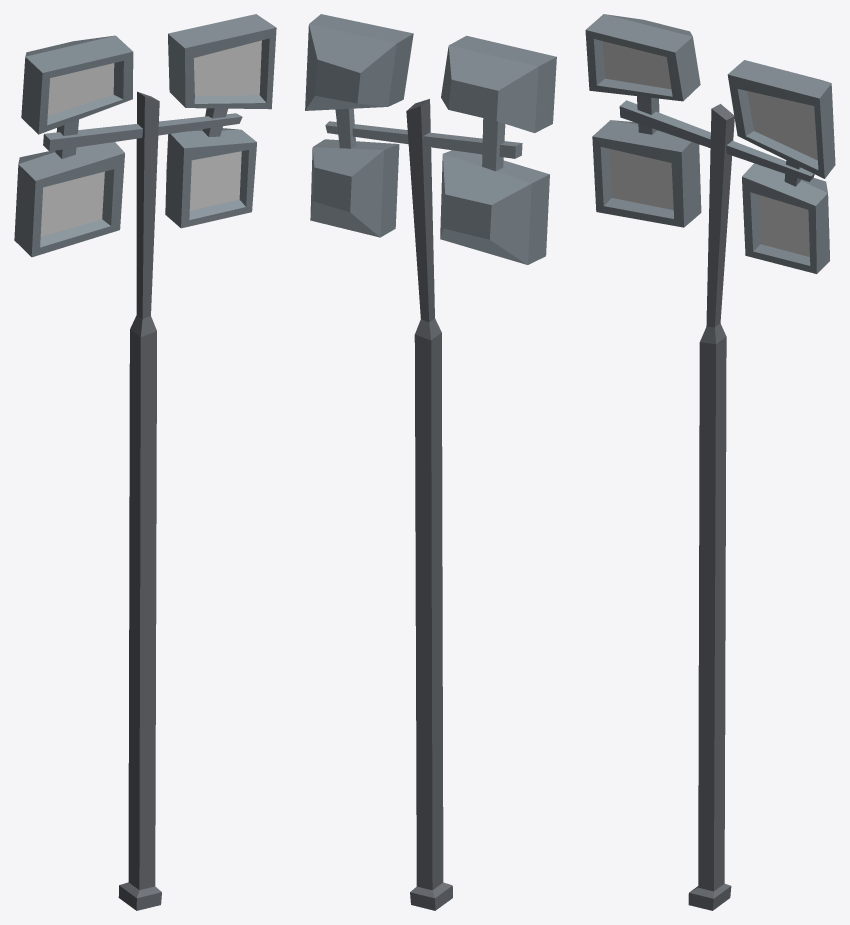
File: SpotLight.fbx
The picture shows the model from 3 angles, left to right: view 1: azimuth 30°, elevation 25°; view 2: azimuth 150°, elevation 25°; view 3: azimuth 330°, elevation 25°; orthographic projection.
Visible parts, largest first — view 1: SpotLight; view 2: SpotLight; view 3: SpotLight.
Part boxes in pixels (bbox=[...]): SpotLight: bbox=[14, 14, 276, 910]; SpotLight: bbox=[305, 14, 556, 910]; SpotLight: bbox=[585, 14, 835, 910].
Size of the model in its own units: 195 by 687 by 65.98.
